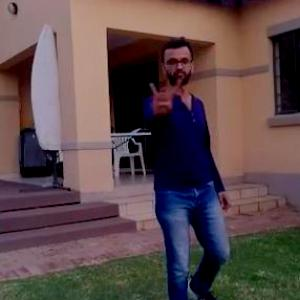takeoff-hand: (140, 67, 184, 119)
